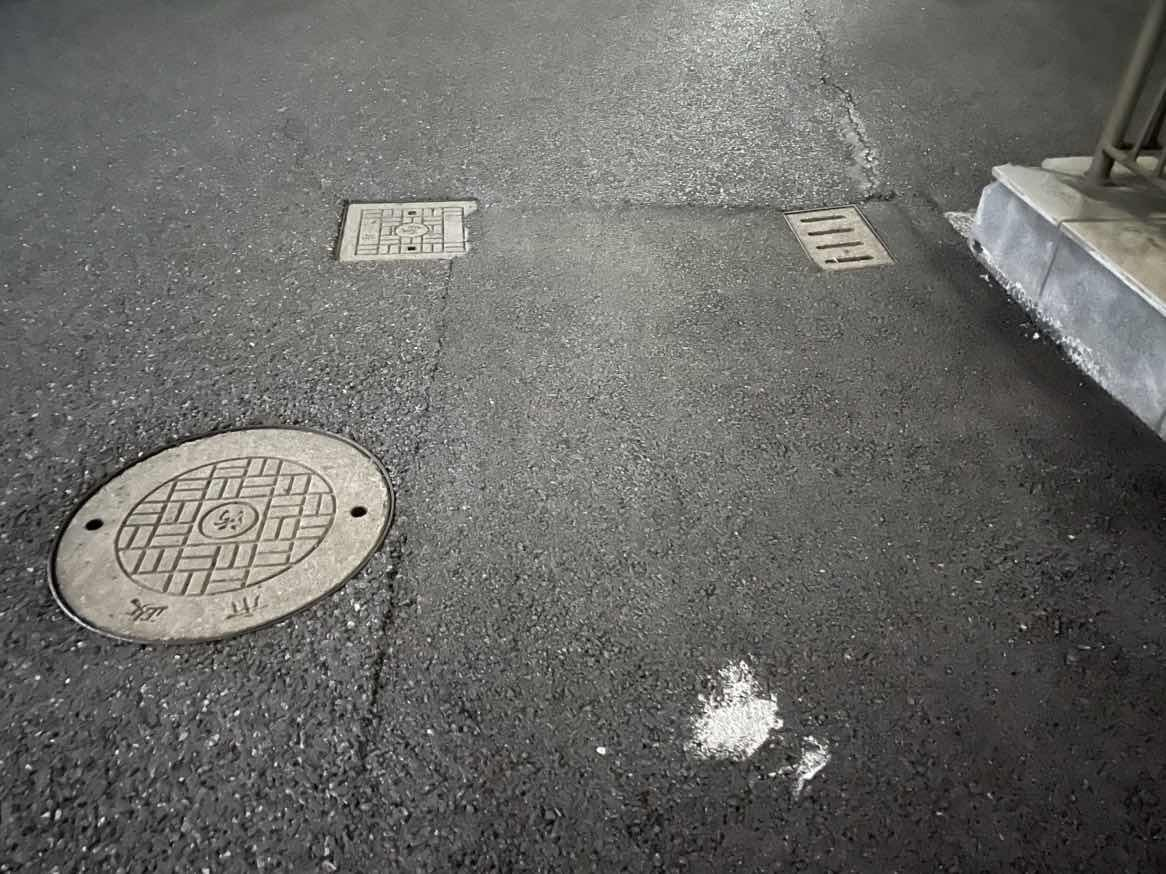wellcover: (22, 408, 407, 653), (328, 185, 496, 259), (755, 200, 897, 277)
